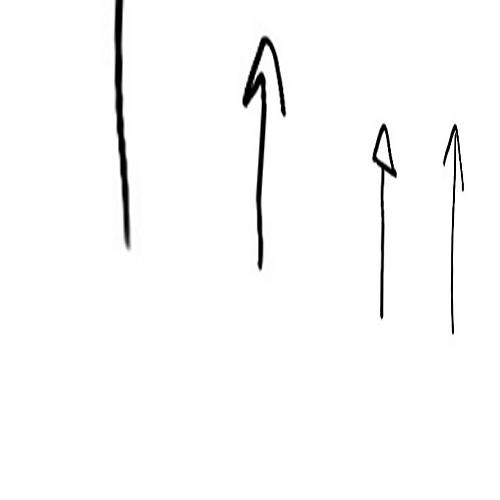arrow: (240, 33, 288, 270), (108, 1, 136, 248), (439, 121, 469, 336), (372, 124, 399, 317)
